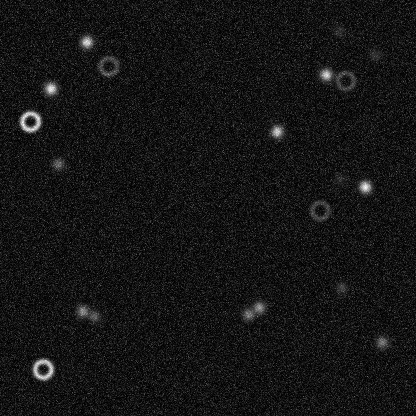Ring: (30, 357, 54, 381), (18, 109, 42, 133), (307, 198, 331, 222), (333, 68, 357, 92), (96, 53, 120, 77)
Spot: (333, 279, 349, 295), (331, 171, 347, 187), (373, 334, 389, 350), (317, 66, 333, 82), (268, 123, 284, 139), (86, 308, 102, 324), (357, 178, 373, 194), (42, 80, 58, 96), (251, 299, 267, 315), (74, 302, 90, 318), (331, 23, 347, 39), (50, 155, 66, 171), (240, 306, 256, 322), (366, 46, 382, 62), (78, 33, 94, 49)
